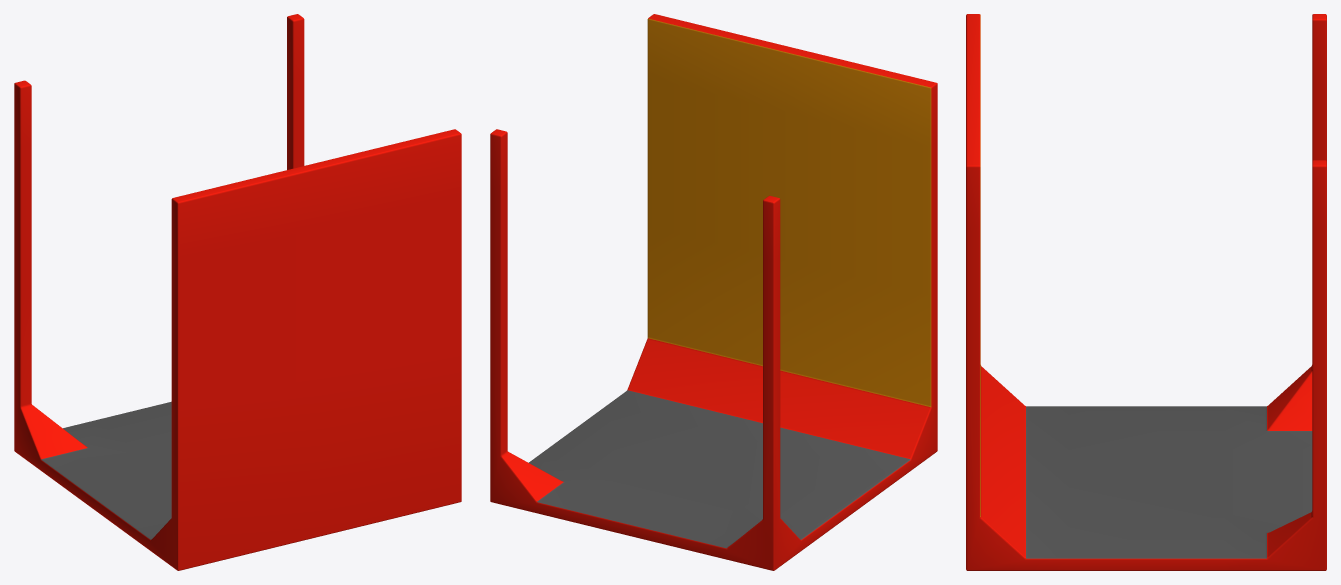
3 views of the same model, side by side, from view 1: azimuth 30°, elevation 25°; view 2: azimuth 150°, elevation 25°; view 3: azimuth 270°, elevation 25° (orthographic). The views are drawn at different scales.
Visible parts, largest first — view 1: S13; view 2: S13; view 3: S13.
Boxes of the visible parts, bbox=[...] form: S13: bbox=[14, 14, 461, 570]; S13: bbox=[490, 14, 937, 570]; S13: bbox=[966, 14, 1326, 570].
Bounding box in the file's own units: 200 × 248 × 200.
